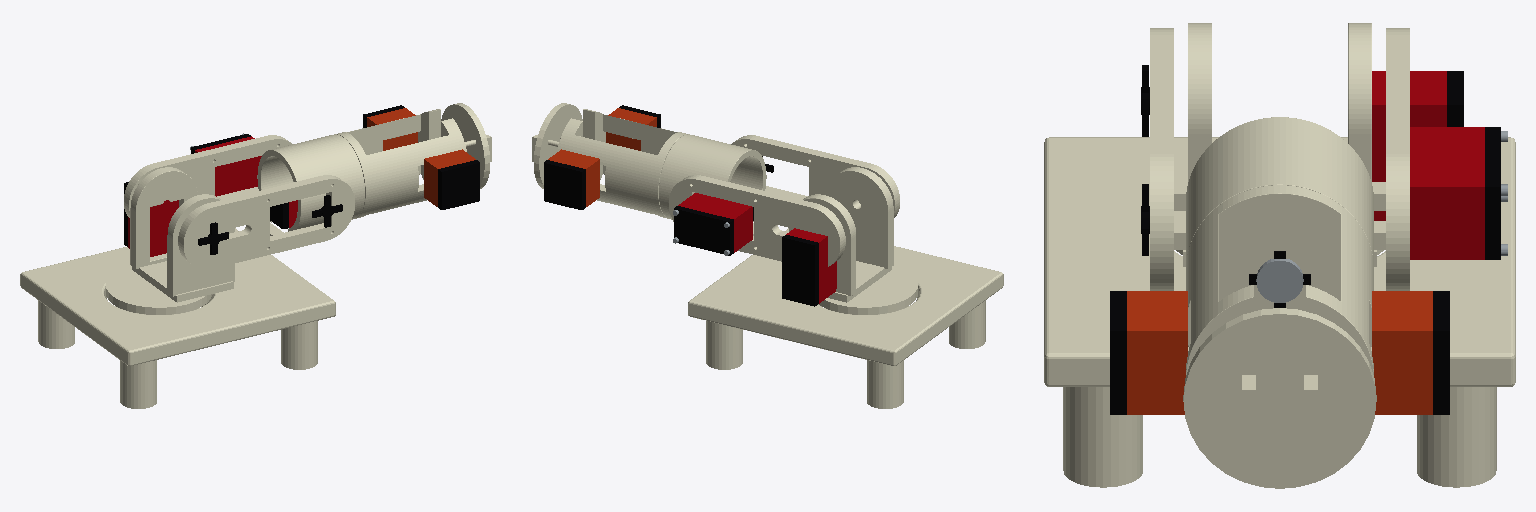
URDF robot description (waybionic_old_arm_visualization):
<?xml version="1.0" ?>
<!-- =================================================================================== -->
<!-- |    This document was autogenerated by xacro from /waybionic_ws/install/waybionic_description/share/waybionic_description/urdf/waybionic_old_arm.urdf.xacro | -->
<!-- |    EDITING THIS FILE BY HAND IS NOT RECOMMENDED                                 | -->
<!-- =================================================================================== -->
<robot name="waybionic_old_arm_visualization">
  <material name="old_arm_print">
    <color rgba="0.86 0.85 0.76 1"/>
  </material>
  <material name="old_arm_servo">
    <color rgba="0.65 0.045 0.09 1"/>
  </material>
  <material name="old_arm_distal_servo">
    <color rgba="0.72 0.24 0.10 1"/>
  </material>
  <material name="old_arm_cover">
    <color rgba="0.055 0.055 0.06 1"/>
  </material>
  <material name="old_arm_metal">
    <color rgba="0.62 0.65 0.67 1"/>
  </material>
  <link name="old_arm_base_link">
    <visual>
      <origin xyz="0 0 0"/>
      <geometry>
        <mesh filename="package://waybionic_description/meshes/old_arm/base_plate.stl" scale="1 1 1"/>
      </geometry>
      <material name="old_arm_print"/>
    </visual>
    <visual>
      <origin rpy="0 0 0" xyz="-0.065 -0.075 -0.041"/>
      <geometry>
        <cylinder length="0.05" radius="0.017"/>
      </geometry>
      <material name="old_arm_print"/>
    </visual>
    <visual>
      <origin rpy="0 0 0" xyz="-0.065 0.075 -0.041"/>
      <geometry>
        <cylinder length="0.05" radius="0.017"/>
      </geometry>
      <material name="old_arm_print"/>
    </visual>
    <visual>
      <origin rpy="0 0 0" xyz="0.105 -0.075 -0.041"/>
      <geometry>
        <cylinder length="0.05" radius="0.017"/>
      </geometry>
      <material name="old_arm_print"/>
    </visual>
    <visual>
      <origin rpy="0 0 0" xyz="0.105 0.075 -0.041"/>
      <geometry>
        <cylinder length="0.05" radius="0.017"/>
      </geometry>
      <material name="old_arm_print"/>
    </visual>
  </link>
  <joint name="old_arm_base_servo_body_mount" type="fixed">
    <parent link="old_arm_base_link"/>
    <child link="old_arm_base_servo_body"/>
    <origin xyz="-0.012 0 -0.031"/>
  </joint>
  <link name="old_arm_base_servo_body">
    <visual>
      <origin rpy="0 0 0" xyz="0 0 0"/>
      <geometry>
        <box size="0.056 0.028 0.038"/>
      </geometry>
      <material name="old_arm_servo"/>
    </visual>
  </link>
  <joint name="old_arm_base_servo_cover_mount" type="fixed">
    <parent link="old_arm_base_link"/>
    <child link="old_arm_base_servo_cover"/>
    <origin xyz="-0.012 0 -0.0535"/>
  </joint>
  <link name="old_arm_base_servo_cover">
    <visual>
      <origin rpy="0 0 0" xyz="0 0 0"/>
      <geometry>
        <box size="0.056 0.028 0.007"/>
      </geometry>
      <material name="old_arm_cover"/>
    </visual>
  </link>
  <joint name="old_arm_base_yaw_joint" type="revolute">
    <parent link="old_arm_base_link"/>
    <child link="old_arm_shoulder_mount"/>
    <axis xyz="0 0 1"/>
    <limit effort="0" lower="-0.5846852994181004" upper="4.127703680966589" velocity="0"/>
  </joint>
  <link name="old_arm_shoulder_mount">
    <visual>
      <origin rpy="0 0 0" xyz="0 0 0.002"/>
      <geometry>
        <cylinder length="0.008" radius="0.049"/>
      </geometry>
      <material name="old_arm_print"/>
    </visual>
    <visual>
      <origin rpy="0 0 0" xyz="0.025 0 0.0095"/>
      <geometry>
        <box size="0.060 0.082 0.007"/>
      </geometry>
      <material name="old_arm_print"/>
    </visual>
    <visual>
      <origin xyz="0.025 0.034 0.07"/>
      <geometry>
        <mesh filename="package://waybionic_description/meshes/old_arm/shoulder_motor_plate.stl" scale="1 1 1.0000000000000002"/>
      </geometry>
      <material name="old_arm_print"/>
    </visual>
    <visual>
      <origin xyz="0.025 -0.034 0.07"/>
      <geometry>
        <mesh filename="package://waybionic_description/meshes/old_arm/shoulder_back_plate.stl" scale="1 1 1.0000000000000002"/>
      </geometry>
      <material name="old_arm_print"/>
    </visual>
  </link>
  <joint name="old_arm_shoulder_servo_body_mount" type="fixed">
    <parent link="old_arm_shoulder_mount"/>
    <child link="old_arm_shoulder_servo_body"/>
    <origin xyz="0.025 0.054 0.045000000000000005"/>
  </joint>
  <link name="old_arm_shoulder_servo_body">
    <visual>
      <origin rpy="0 0 0" xyz="0 0 0"/>
      <geometry>
        <box size="0.035 0.034 0.062"/>
      </geometry>
      <material name="old_arm_servo"/>
    </visual>
  </link>
  <joint name="old_arm_shoulder_servo_cover_mount" type="fixed">
    <parent link="old_arm_shoulder_mount"/>
    <child link="old_arm_shoulder_servo_cover"/>
    <origin xyz="0.025 0.0745 0.045000000000000005"/>
  </joint>
  <link name="old_arm_shoulder_servo_cover">
    <visual>
      <origin rpy="0 0 0" xyz="0 0 0"/>
      <geometry>
        <box size="0.035 0.007 0.062"/>
      </geometry>
      <material name="old_arm_cover"/>
    </visual>
  </link>
  <joint name="old_arm_shoulder_pitch_joint" type="revolute">
    <parent link="old_arm_shoulder_mount"/>
    <child link="old_arm_upper_arm"/>
    <origin xyz="0.025 0 0.07"/>
    <axis xyz="0 -1 0"/>
    <limit effort="0" lower="-0.0" upper="1.9634954084936207" velocity="0"/>
  </joint>
  <link name="old_arm_upper_arm">
    <visual>
      <origin xyz="0 -0.050 0"/>
      <geometry>
        <mesh filename="package://waybionic_description/meshes/old_arm/upper_arm_plate.stl" scale="1.0 1 1"/>
      </geometry>
      <material name="old_arm_print"/>
    </visual>
    <visual>
      <origin xyz="0 0.050 0"/>
      <geometry>
        <mesh filename="package://waybionic_description/meshes/old_arm/upper_arm_plate.stl" scale="1.0 1 1"/>
      </geometry>
      <material name="old_arm_print"/>
    </visual>
    <visual>
      <origin rpy="0 0 0" xyz="0.04 0 -0.026"/>
      <geometry>
        <box size="0.012 0.095 0.008"/>
      </geometry>
      <material name="old_arm_print"/>
    </visual>
    <visual>
      <origin rpy="0 0 0" xyz="0.08 0 -0.026"/>
      <geometry>
        <box size="0.012 0.095 0.008"/>
      </geometry>
      <material name="old_arm_print"/>
    </visual>
  </link>
  <joint name="old_arm_shoulder_horn_mount" type="fixed">
    <parent link="old_arm_upper_arm"/>
    <child link="old_arm_shoulder_horn"/>
    <origin xyz="0 -0.057 0"/>
  </joint>
  <link name="old_arm_shoulder_horn">
    <visual>
      <origin rpy="0 0 0" xyz="0 0 0"/>
      <geometry>
        <box size="0.031 0.003 0.006"/>
      </geometry>
      <material name="old_arm_cover"/>
    </visual>
    <visual>
      <origin rpy="0 0 0" xyz="0 0 0"/>
      <geometry>
        <box size="0.006 0.003 0.031"/>
      </geometry>
      <material name="old_arm_cover"/>
    </visual>
    <visual>
      <origin rpy="1.5707963267948966 0 0" xyz="0 0 0"/>
      <geometry>
        <cylinder length="0.004" radius="0.006"/>
      </geometry>
      <material name="old_arm_cover"/>
    </visual>
  </link>
  <joint name="old_arm_elbow_servo_body_mount" type="fixed">
    <parent link="old_arm_upper_arm"/>
    <child link="old_arm_elbow_servo_body"/>
    <origin xyz="0.093 0.070 0"/>
  </joint>
  <link name="old_arm_elbow_servo_body">
    <visual>
      <origin rpy="0 0 0" xyz="0 0 0"/>
      <geometry>
        <box size="0.060 0.034 0.034"/>
      </geometry>
      <material name="old_arm_servo"/>
    </visual>
  </link>
  <joint name="old_arm_elbow_servo_cover_mount" type="fixed">
    <parent link="old_arm_upper_arm"/>
    <child link="old_arm_elbow_servo_cover"/>
    <origin xyz="0.093 0.0905 0"/>
  </joint>
  <link name="old_arm_elbow_servo_cover">
    <visual>
      <origin rpy="0 0 0" xyz="0 0 0"/>
      <geometry>
        <box size="0.060 0.007 0.034"/>
      </geometry>
      <material name="old_arm_cover"/>
    </visual>
  </link>
  <joint name="old_arm_elbow_cover_screws_mount" type="fixed">
    <parent link="old_arm_upper_arm"/>
    <child link="old_arm_elbow_cover_screws"/>
  </joint>
  <link name="old_arm_elbow_cover_screws">
    <visual>
      <origin rpy="1.5707963267948966 0 0" xyz="0.066 0.0955 -0.014"/>
      <geometry>
        <cylinder length="0.003" radius="0.0025"/>
      </geometry>
      <material name="old_arm_metal"/>
    </visual>
    <visual>
      <origin rpy="1.5707963267948966 0 0" xyz="0.12 0.0955 -0.014"/>
      <geometry>
        <cylinder length="0.003" radius="0.0025"/>
      </geometry>
      <material name="old_arm_metal"/>
    </visual>
    <visual>
      <origin rpy="1.5707963267948966 0 0" xyz="0.066 0.0955 0.014"/>
      <geometry>
        <cylinder length="0.003" radius="0.0025"/>
      </geometry>
      <material name="old_arm_metal"/>
    </visual>
    <visual>
      <origin rpy="1.5707963267948966 0 0" xyz="0.12 0.0955 0.014"/>
      <geometry>
        <cylinder length="0.003" radius="0.0025"/>
      </geometry>
      <material name="old_arm_metal"/>
    </visual>
  </link>
  <joint name="old_arm_elbow_pitch_joint" type="revolute">
    <parent link="old_arm_upper_arm"/>
    <child link="old_arm_forearm"/>
    <origin xyz="0.12 0 0"/>
    <axis xyz="0 -1 0"/>
    <limit effort="0" lower="-1.0733774899765127" upper="2.0682151636132806" velocity="0"/>
  </joint>
  <link name="old_arm_forearm">
    <visual>
      <origin xyz="0 0 0"/>
      <geometry>
        <mesh filename="package://waybionic_description/meshes/old_arm/wrist_housing.stl" scale="1.0 1 1"/>
      </geometry>
      <material name="old_arm_print"/>
    </visual>
  </link>
  <joint name="old_arm_elbow_horn_mount" type="fixed">
    <parent link="old_arm_forearm"/>
    <child link="old_arm_elbow_horn"/>
    <origin xyz="0 -0.057 0"/>
  </joint>
  <link name="old_arm_elbow_horn">
    <visual>
      <origin rpy="0 0 0" xyz="0 0 0"/>
      <geometry>
        <box size="0.031 0.003 0.006"/>
      </geometry>
      <material name="old_arm_cover"/>
    </visual>
    <visual>
      <origin rpy="0 0 0" xyz="0 0 0"/>
      <geometry>
        <box size="0.006 0.003 0.031"/>
      </geometry>
      <material name="old_arm_cover"/>
    </visual>
    <visual>
      <origin rpy="1.5707963267948966 0 0" xyz="0 0 0"/>
      <geometry>
        <cylinder length="0.004" radius="0.006"/>
      </geometry>
      <material name="old_arm_cover"/>
    </visual>
  </link>
  <joint name="old_arm_wrist_servo_body_mount" type="fixed">
    <parent link="old_arm_forearm"/>
    <child link="old_arm_wrist_servo_body"/>
    <origin xyz="0.006000000000000005 0 -0.016"/>
  </joint>
  <link name="old_arm_wrist_servo_body">
    <visual>
      <origin rpy="0 0 0" xyz="0 0 0"/>
      <geometry>
        <box size="0.043 0.029 0.029"/>
      </geometry>
      <material name="old_arm_servo"/>
    </visual>
  </link>
  <joint name="old_arm_wrist_servo_cover_mount" type="fixed">
    <parent link="old_arm_forearm"/>
    <child link="old_arm_wrist_servo_cover"/>
    <origin xyz="-0.019000000000000003 0 -0.016"/>
  </joint>
  <link name="old_arm_wrist_servo_cover">
    <visual>
      <origin rpy="0 0 0" xyz="0 0 0"/>
      <geometry>
        <box size="0.007 0.029 0.029"/>
      </geometry>
      <material name="old_arm_cover"/>
    </visual>
  </link>
  <joint name="old_arm_wrist_roll_joint" type="revolute">
    <parent link="old_arm_forearm"/>
    <child link="old_arm_wrist_roll"/>
    <origin xyz="0.05 0 0"/>
    <axis xyz="1 0 0"/>
    <limit effort="0" lower="-0.4799655442984406" upper="4.232423436086249" velocity="0"/>
  </joint>
  <link name="old_arm_wrist_roll">
    <visual>
      <origin xyz="0 0 0"/>
      <geometry>
        <mesh filename="package://waybionic_description/meshes/old_arm/wrist_cage.stl" scale="1 1 1"/>
      </geometry>
      <material name="old_arm_print"/>
    </visual>
    <visual>
      <origin rpy="0 1.5707963267948966 0" xyz="0.129 0 0"/>
      <geometry>
        <cylinder length="0.006" radius="0.041"/>
      </geometry>
      <material name="old_arm_print"/>
    </visual>
    <visual>
      <origin rpy="0 1.5707963267948966 0" xyz="0.118 -0.023 -0.015"/>
      <geometry>
        <cylinder length="0.02" radius="0.0025"/>
      </geometry>
      <material name="old_arm_print"/>
    </visual>
    <visual>
      <origin rpy="0 1.5707963267948966 0" xyz="0.118 0.023 -0.015"/>
      <geometry>
        <cylinder length="0.02" radius="0.0025"/>
      </geometry>
      <material name="old_arm_print"/>
    </visual>
    <visual>
      <origin rpy="0 1.5707963267948966 0" xyz="0.118 -0.023 0.015"/>
      <geometry>
        <cylinder length="0.02" radius="0.0025"/>
      </geometry>
      <material name="old_arm_print"/>
    </visual>
    <visual>
      <origin rpy="0 1.5707963267948966 0" xyz="0.118 0.023 0.015"/>
      <geometry>
        <cylinder length="0.02" radius="0.0025"/>
      </geometry>
      <material name="old_arm_print"/>
    </visual>
    <visual>
      <origin rpy="0 0 0" xyz="0.139 -0.013 0"/>
      <geometry>
        <box size="0.017 0.006 0.025"/>
      </geometry>
      <material name="old_arm_print"/>
    </visual>
    <visual>
      <origin rpy="0 0 0" xyz="0.139 0.013 0"/>
      <geometry>
        <box size="0.017 0.006 0.025"/>
      </geometry>
      <material name="old_arm_print"/>
    </visual>
  </link>
  <joint name="old_arm_distal_left_servo_mount" type="fixed">
    <parent link="old_arm_wrist_roll"/>
    <child link="old_arm_distal_left_servo"/>
    <origin xyz="0.083 0.052 0"/>
  </joint>
  <link name="old_arm_distal_left_servo">
    <visual>
      <origin rpy="0 0 0" xyz="0 0 0"/>
      <geometry>
        <box size="0.041 0.026 0.039"/>
      </geometry>
      <material name="old_arm_distal_servo"/>
    </visual>
  </link>
  <joint name="old_arm_distal_right_servo_mount" type="fixed">
    <parent link="old_arm_wrist_roll"/>
    <child link="old_arm_distal_right_servo"/>
    <origin xyz="0.083 -0.052 0"/>
  </joint>
  <link name="old_arm_distal_right_servo">
    <visual>
      <origin rpy="0 0 0" xyz="0 0 0"/>
      <geometry>
        <box size="0.041 0.026 0.039"/>
      </geometry>
      <material name="old_arm_distal_servo"/>
    </visual>
  </link>
  <joint name="old_arm_distal_left_cover_mount" type="fixed">
    <parent link="old_arm_distal_left_servo"/>
    <child link="old_arm_distal_left_cover"/>
    <origin xyz="0 0.0165 0"/>
  </joint>
  <link name="old_arm_distal_left_cover">
    <visual>
      <origin rpy="0 0 0" xyz="0 0 0"/>
      <geometry>
        <box size="0.041 0.007 0.039"/>
      </geometry>
      <material name="old_arm_cover"/>
    </visual>
  </link>
  <joint name="old_arm_distal_right_cover_mount" type="fixed">
    <parent link="old_arm_distal_right_servo"/>
    <child link="old_arm_distal_right_cover"/>
    <origin xyz="0 -0.0165 0"/>
  </joint>
  <link name="old_arm_distal_right_cover">
    <visual>
      <origin rpy="0 0 0" xyz="0 0 0"/>
      <geometry>
        <box size="0.041 0.007 0.039"/>
      </geometry>
      <material name="old_arm_cover"/>
    </visual>
  </link>
  <joint name="old_arm_wrist_marker_mount" type="fixed">
    <parent link="old_arm_wrist_roll"/>
    <child link="old_arm_wrist_marker"/>
    <origin xyz="0.009 0 0"/>
  </joint>
  <link name="old_arm_wrist_marker">
    <visual>
      <origin rpy="0 0 0" xyz="0 0 0"/>
      <geometry>
        <box size="0.002 0.026 0.005"/>
      </geometry>
      <material name="old_arm_cover"/>
    </visual>
  </link>
  <joint name="old_arm_wrist_marker_cross_mount" type="fixed">
    <parent link="old_arm_wrist_roll"/>
    <child link="old_arm_wrist_marker_cross"/>
    <origin xyz="0.009 0 0"/>
  </joint>
  <link name="old_arm_wrist_marker_cross">
    <visual>
      <origin rpy="0 0 0" xyz="0 0 0"/>
      <geometry>
        <box size="0.002 0.005 0.026"/>
      </geometry>
      <material name="old_arm_cover"/>
    </visual>
  </link>
  <joint name="old_arm_wrist_hub_mount" type="fixed">
    <parent link="old_arm_wrist_roll"/>
    <child link="old_arm_wrist_hub"/>
  </joint>
  <link name="old_arm_wrist_hub">
    <visual>
      <origin rpy="0 1.5707963267948966 0" xyz="0.006 0 0"/>
      <geometry>
        <cylinder length="0.012" radius="0.01"/>
      </geometry>
      <material name="old_arm_metal"/>
    </visual>
  </link>
  <joint name="old_arm_tool_joint" type="fixed">
    <parent link="old_arm_wrist_roll"/>
    <child link="old_arm_tool_frame"/>
    <origin xyz="0.0 0 0"/>
  </joint>
  <link name="old_arm_tool_frame"/>
</robot>

--- Facts derived from the render (not from the file) ---
The picture shows the robot from 3 angles, left to right: view 1: azimuth 30°, elevation 25°; view 2: azimuth 150°, elevation 25°; view 3: azimuth 270°, elevation 25°; orthographic projection.
Model waybionic_old_arm_visualization with 24 links and 23 joints (4 revolute, 19 fixed), rooted at old_arm_base_link, posed every joint at zero.
Links seen in each view (by area): view 1: old_arm_base_link, old_arm_upper_arm, old_arm_shoulder_mount, old_arm_wrist_roll, old_arm_forearm, old_arm_distal_right_cover, old_arm_elbow_servo_body, old_arm_shoulder_servo_body, old_arm_distal_right_servo, old_arm_distal_left_servo; view 2: old_arm_base_link, old_arm_shoulder_mount, old_arm_upper_arm, old_arm_wrist_roll, old_arm_forearm, old_arm_shoulder_servo_cover, old_arm_elbow_servo_cover, old_arm_distal_left_cover, old_arm_elbow_servo_body, old_arm_shoulder_servo_body, old_arm_distal_left_servo, old_arm_distal_right_servo; view 3: old_arm_base_link, old_arm_wrist_roll, old_arm_upper_arm, old_arm_forearm, old_arm_elbow_servo_body, old_arm_distal_left_servo, old_arm_distal_right_servo, old_arm_shoulder_mount, old_arm_shoulder_servo_body, old_arm_elbow_servo_cover, old_arm_distal_left_cover, old_arm_distal_right_cover (+4 smaller).
Link boxes in pixels (box(x1,y1,x2,y2)): old_arm_base_link: box(20, 228, 335, 408); old_arm_upper_arm: box(124, 135, 354, 269); old_arm_shoulder_mount: box(106, 167, 234, 314); old_arm_wrist_roll: box(337, 103, 491, 218); old_arm_forearm: box(257, 134, 364, 231); old_arm_distal_right_cover: box(438, 160, 479, 209); old_arm_elbow_servo_body: box(195, 136, 261, 196); old_arm_shoulder_servo_body: box(128, 200, 178, 256); old_arm_distal_right_servo: box(424, 149, 475, 206); old_arm_distal_left_servo: box(367, 108, 417, 150); old_arm_base_link: box(688, 228, 1003, 408); old_arm_shoulder_mount: box(789, 167, 917, 314); old_arm_upper_arm: box(669, 135, 899, 266); old_arm_wrist_roll: box(532, 103, 686, 218); old_arm_forearm: box(659, 134, 766, 221); old_arm_shoulder_servo_cover: box(782, 235, 818, 306); old_arm_elbow_servo_cover: box(674, 206, 733, 255); old_arm_distal_left_cover: box(544, 160, 585, 209); old_arm_elbow_servo_body: box(678, 193, 752, 252); old_arm_shoulder_servo_body: box(786, 228, 836, 303); old_arm_distal_left_servo: box(548, 149, 599, 206); old_arm_distal_right_servo: box(606, 108, 656, 150); old_arm_base_link: box(1044, 137, 1515, 487); old_arm_wrist_roll: box(1183, 185, 1376, 488); old_arm_upper_arm: box(1150, 28, 1409, 290); old_arm_forearm: box(1186, 117, 1373, 259); old_arm_elbow_servo_body: box(1410, 127, 1484, 259); old_arm_distal_left_servo: box(1372, 291, 1432, 414); old_arm_distal_right_servo: box(1127, 291, 1187, 414); old_arm_shoulder_mount: box(1174, 23, 1383, 266); old_arm_shoulder_servo_body: box(1372, 71, 1446, 220); old_arm_elbow_servo_cover: box(1485, 127, 1500, 259); old_arm_distal_left_cover: box(1433, 291, 1449, 414); old_arm_distal_right_cover: box(1110, 291, 1126, 414).
Bounding box of the posed robot: 0.4325 × 0.2 × 0.177 m (x, y, z).
7 mesh visuals loaded from 6 distinct referenced files (6 binary STL).
